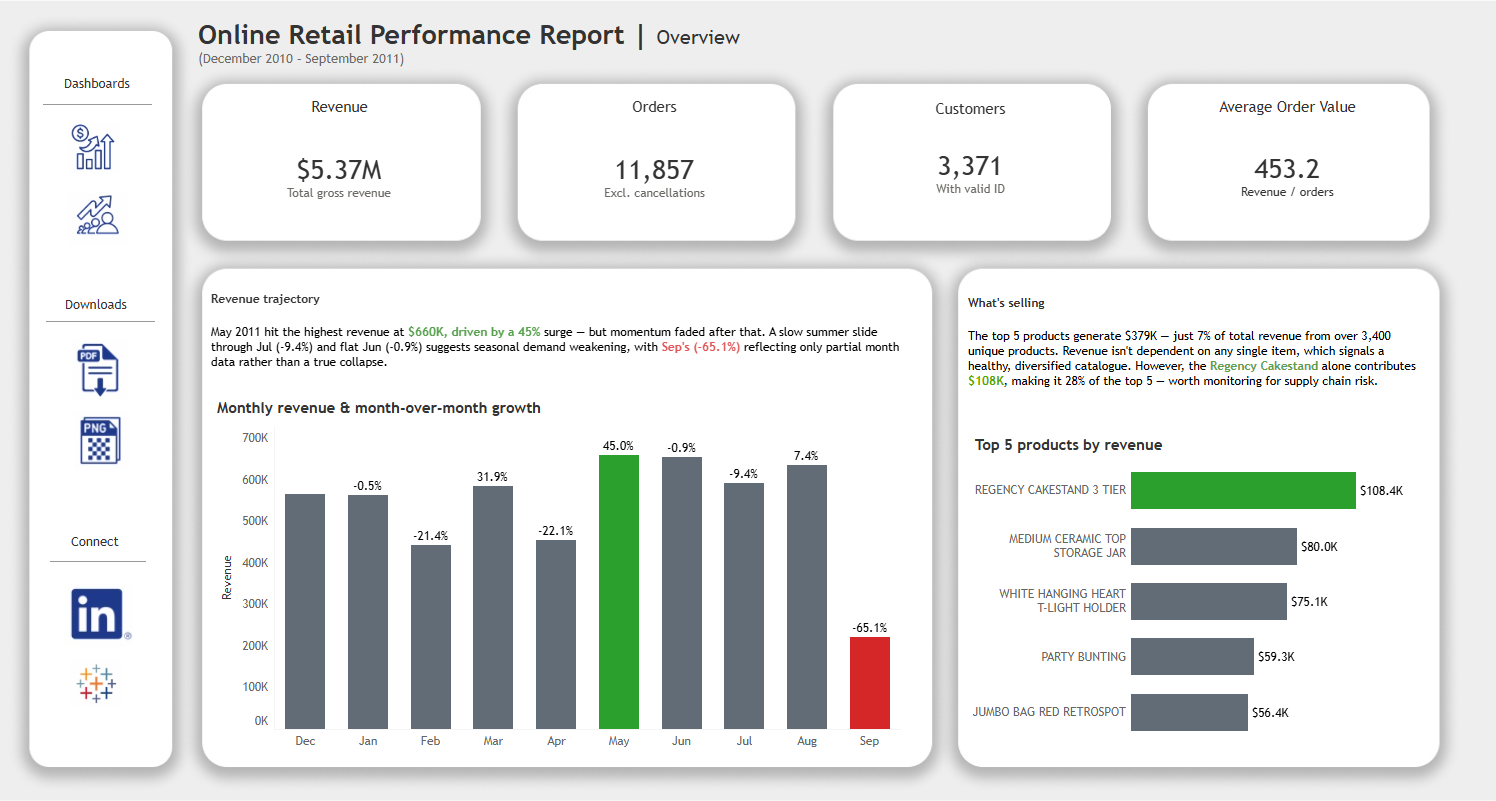

Layout of this report page (visuals, bound fields, positions):
{"tool":"tableau","page":{"name":"Overview","canvas":[1000,1000],"units":"permille","ordinal":0},"visuals":[{"type":"image","param":"Image/Overview Layout.png","box":[0,0,1000,1000]},{"type":"text","box":[134,11.2,602,83.8]},{"type":"text","box":[36.7,85,68.7,37.5]},{"type":"worksheet","title":"Revenue","mark":"Automatic","box":[140.7,112.5,175.3,171.2]},{"type":"worksheet","title":"Orders","mark":"Automatic","box":[350.7,112.5,175.3,171.2]},{"type":"worksheet","title":"AOV","mark":"Automatic","box":[772,112.5,176.7,167.5]},{"type":"worksheet","title":"Customers","mark":"Automatic","box":[562,115,174,156.2]},{"type":"blank","box":[30.7,128.8,72.7,1.2]},{"type":"dashboard-object","box":[30.7,151.2,66.7,65]},{"type":"dashboard-object","box":[34.7,240,64.7,65]},{"type":"text","box":[143.3,342.5,466.7,161.2]},{"type":"text","box":[647.3,346.2,308,173.8]},{"type":"text","box":[38.7,361.2,66.7,37.5]},{"type":"blank","box":[32.7,400,72.7,1.2]},{"type":"dashboard-object","box":[35.3,423.8,66.7,76.2]},{"type":"worksheet","title":"Monthly revenue & month-over-month growth","mark":"Bar","rows":["Calculation_0900549600825360"],"cols":["invoice_date"],"box":[144,488.8,458.7,446.2]},{"type":"dashboard-object","box":[39.3,512.5,60.7,75]},{"type":"worksheet","title":"Top 5 Products by revenue","mark":"Automatic","rows":["description"],"cols":["Calculation_0900549600825360"],"box":[649.3,535,298,388.8]},{"type":"text","box":[44.7,657.5,66.7,37.5]},{"type":"blank","box":[35.3,700,64,1.2]},{"type":"image","param":"Image/Screenshot 2026-03-17 221749.png","box":[44.7,727.5,46,81.2]},{"type":"image","param":"Image/Screenshot 2026-03-17 221802.png","box":[44.7,822.5,42.7,60]}]}

Visuals, with their boxes on the dashboard's canvas, which has no fixed pixel size, in thousandths of its width and height (x1, y1, x2, y2). These are canvas units, not pixel positions in the 1496x801 screenshot, which may show the page scaled, cropped or inside an application window:
image: left=0, top=0, right=1000, bottom=1000
text: left=134, top=11, right=736, bottom=95
text: left=37, top=85, right=105, bottom=122
"Revenue" worksheet: left=141, top=112, right=316, bottom=284
"Orders" worksheet: left=351, top=112, right=526, bottom=284
"AOV" worksheet: left=772, top=112, right=949, bottom=280
"Customers" worksheet: left=562, top=115, right=736, bottom=271
blank: left=31, top=129, right=103, bottom=130
dashboard-object: left=31, top=151, right=97, bottom=216
dashboard-object: left=35, top=240, right=99, bottom=305
text: left=143, top=342, right=610, bottom=504
text: left=647, top=346, right=955, bottom=520
text: left=39, top=361, right=105, bottom=399
blank: left=33, top=400, right=105, bottom=401
dashboard-object: left=35, top=424, right=102, bottom=500
"Monthly revenue & month-over-month growth" worksheet (Bar marks): left=144, top=489, right=603, bottom=935
dashboard-object: left=39, top=512, right=100, bottom=588
"Top 5 Products by revenue" worksheet: left=649, top=535, right=947, bottom=924
text: left=45, top=658, right=111, bottom=695
blank: left=35, top=700, right=99, bottom=701
image: left=45, top=728, right=91, bottom=809
image: left=45, top=822, right=87, bottom=882
